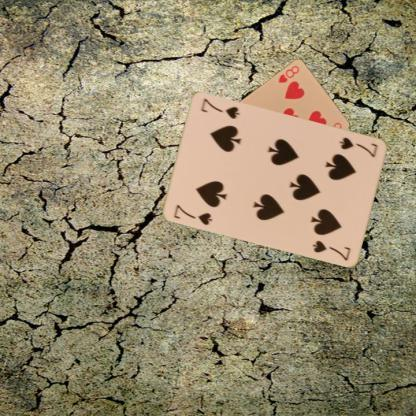7s: (172, 201, 214, 226), (337, 134, 379, 158)
8h: (276, 63, 300, 84)
